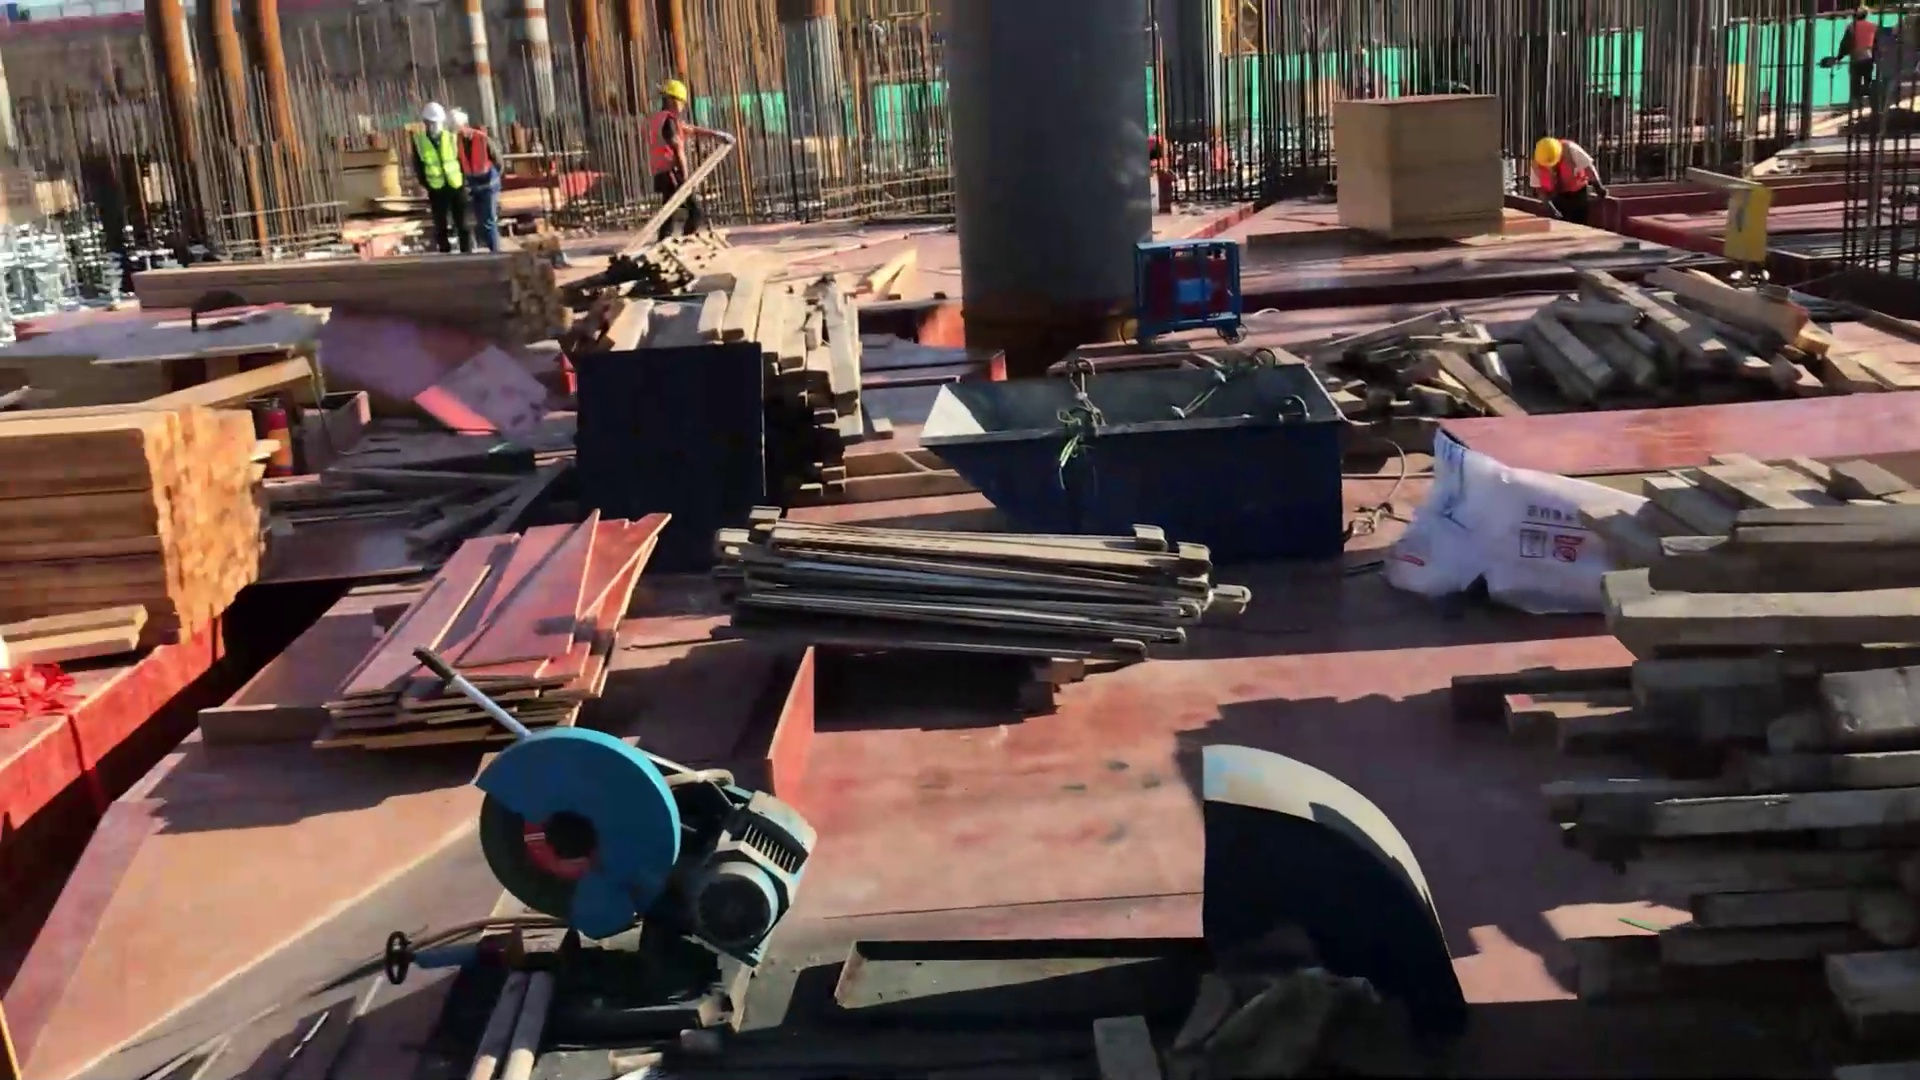board: (292, 497, 681, 764), (1437, 381, 1763, 512), (1321, 76, 1521, 245)
cutter: (403, 647, 826, 1031)
helmet: (1529, 131, 1565, 172), (415, 100, 449, 136), (658, 75, 692, 102), (447, 111, 471, 134), (1854, 5, 1875, 25)
hopper: (919, 343, 1353, 578)
person: (640, 73, 713, 245), (446, 104, 517, 254), (407, 97, 471, 255), (1524, 129, 1606, 216), (1840, 2, 1890, 120)
vest: (414, 127, 465, 197), (1528, 144, 1592, 197), (646, 108, 690, 181), (457, 123, 497, 195), (1850, 23, 1876, 63)
wood: (565, 264, 874, 528), (1, 393, 269, 656), (119, 250, 584, 367)
